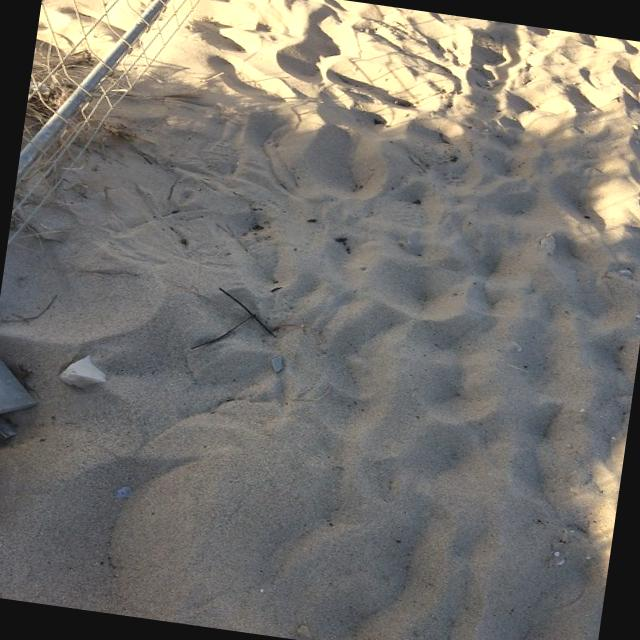Trash: (190, 282, 290, 366), (58, 352, 114, 394), (111, 479, 136, 502)
